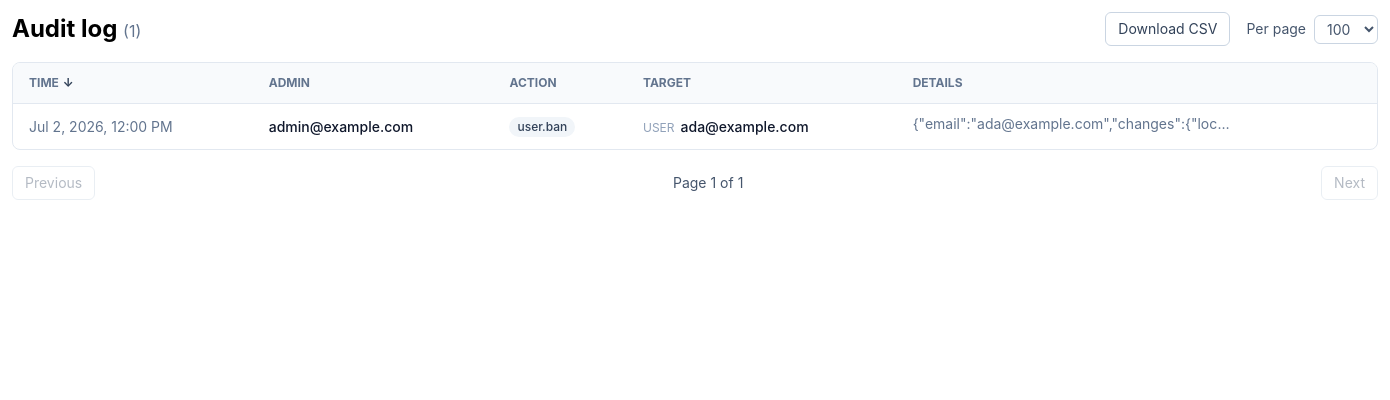
Test case: AdminLogsPage › expands a clipped details entry on click, and folds it back
Expected: the text "user.ban" is shown, [510,117,575,137]
Click the button with aria-label "Show full details" at (1137, 124), box [913,114,1361,134]
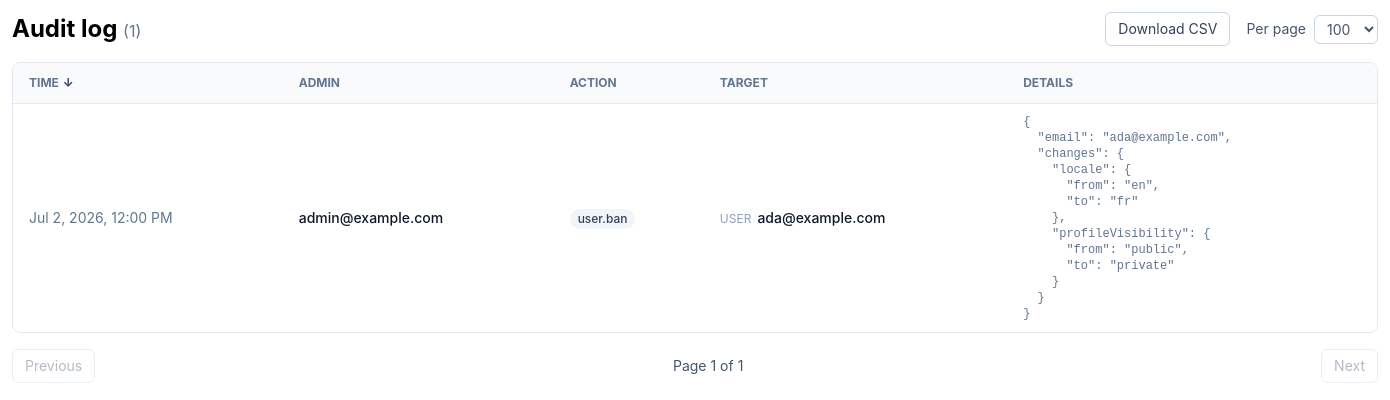
Expected: the button with aria-label "Hide full details" is expanded
Click the button with aria-label "Hide full details" at (1135, 138), box [1023,114,1361,322]
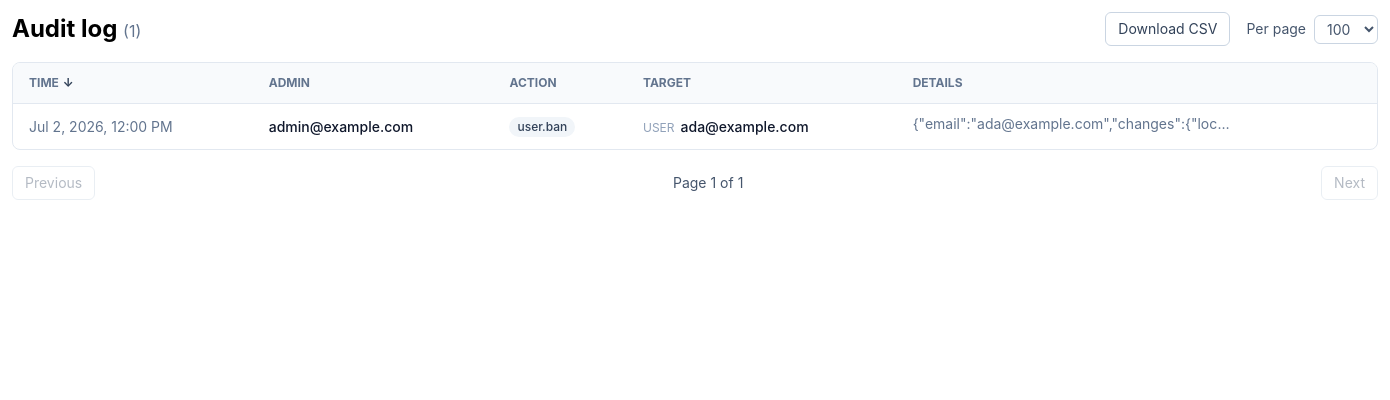
Expected: the button with aria-label "Show full details" is collapsed, [913,114,1361,134]
